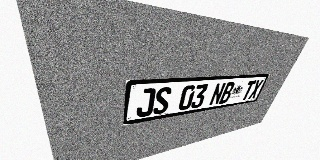0: (177, 85, 197, 111)
3: (190, 84, 209, 109)
B: (218, 82, 236, 104)
J: (136, 88, 156, 118)
N: (208, 82, 226, 106)
S: (152, 87, 172, 115)
T: (240, 80, 257, 100)
X: (248, 80, 264, 99)
